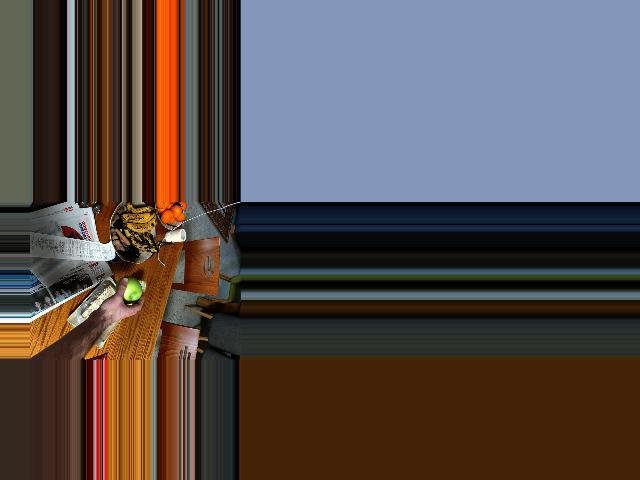apple: (113, 276, 143, 305)
